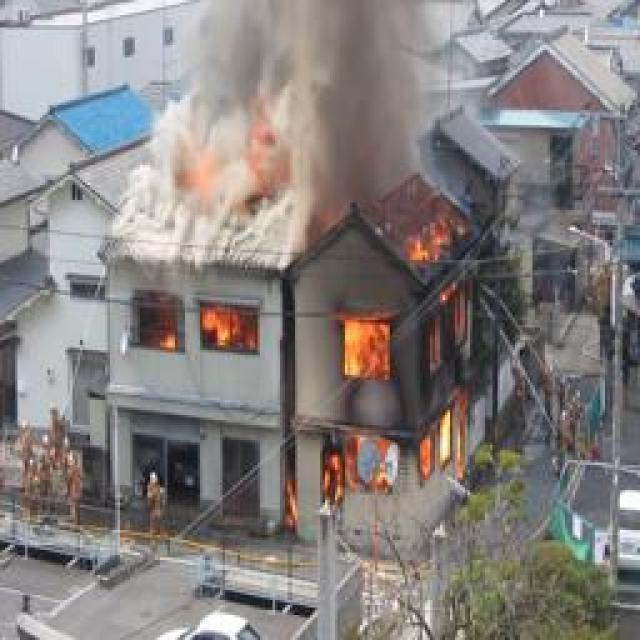Fire: (299, 198, 485, 511), (136, 294, 249, 350)
